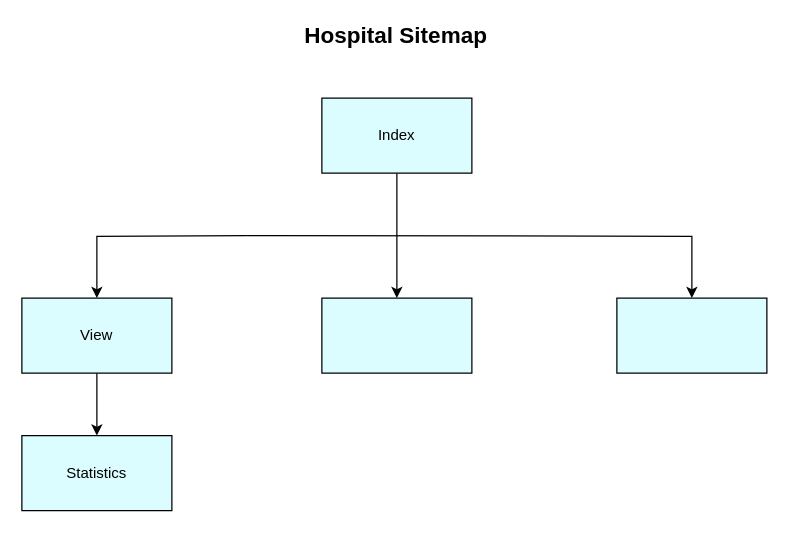
Image size: 789x533. Some labels were removed from this diagram. The box of each missing label's shape, as (x1, y1, x2, y2) in pixels:
Help: (616, 297, 767, 373)
Manage: (321, 297, 472, 373)
